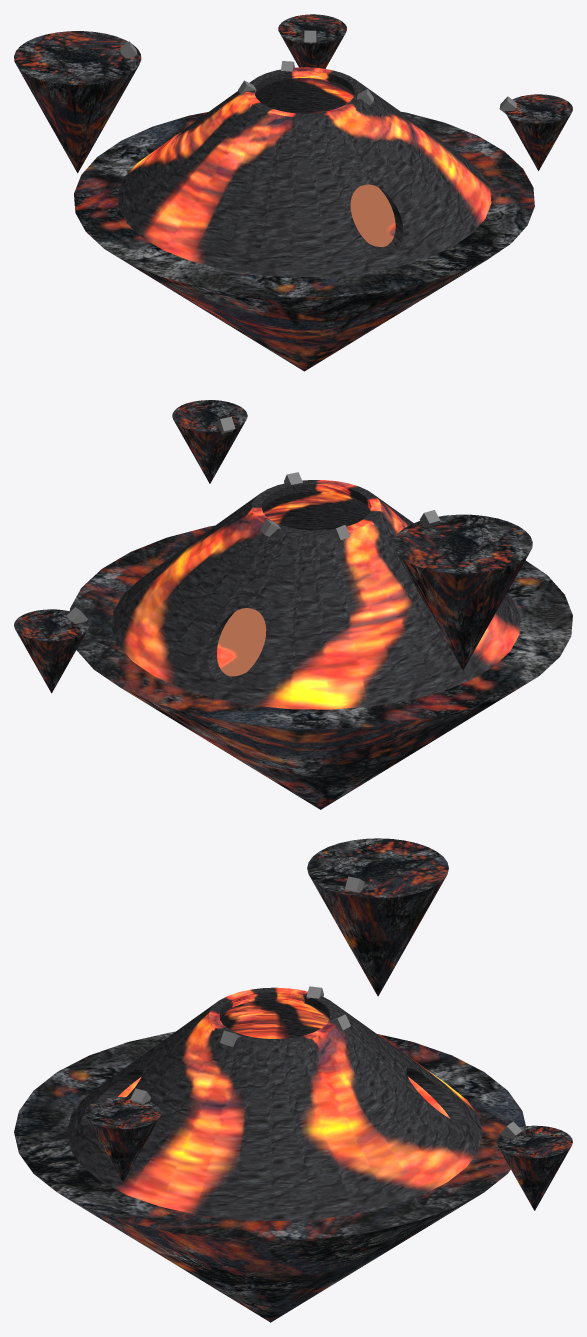
Rendered from Volcano Map - Copy.fbx.
3 renders of one model, top to bottom at view 1: azimuth 30°, elevation 25°; view 2: azimuth 150°, elevation 25°; view 3: azimuth 270°, elevation 25°, orthographic. The views are drawn at different scales.
Visible parts, largest first — view 1: Volcano, Ground, Cone_002, Cone_001, Cone; view 2: Volcano, Ground, Cone_002, Cone, Cone_001; view 3: Volcano, Ground, Cone_002, Cone_001, Cone.
Part boxes in pixels (x1,y1,x2,y2): Volcano: (118, 67, 491, 277); Ground: (74, 111, 534, 371); Cone_002: (14, 31, 141, 173); Cone_001: (504, 94, 572, 170); Cone: (278, 14, 346, 68); Volcano: (112, 480, 520, 709); Ground: (69, 525, 572, 809); Cone_002: (393, 514, 532, 670); Cone: (14, 609, 89, 693); Cone_001: (172, 400, 247, 483); Volcano: (67, 987, 482, 1221); Ground: (14, 1031, 525, 1322); Cone_002: (307, 838, 448, 996); Cone_001: (84, 1097, 160, 1181); Cone: (496, 1125, 572, 1210).
Size of what is drawn, in the model's own units: 3563 by 2619 by 3579.
